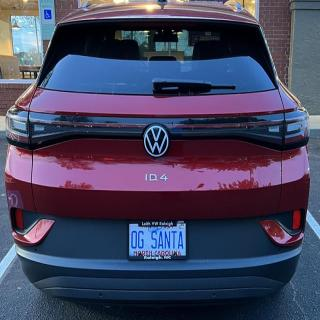license: (128, 221, 190, 261)
